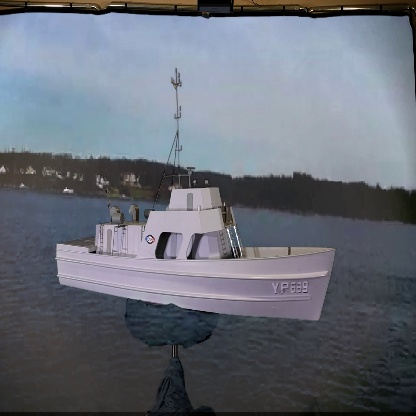YP689: (52, 65, 339, 322)
